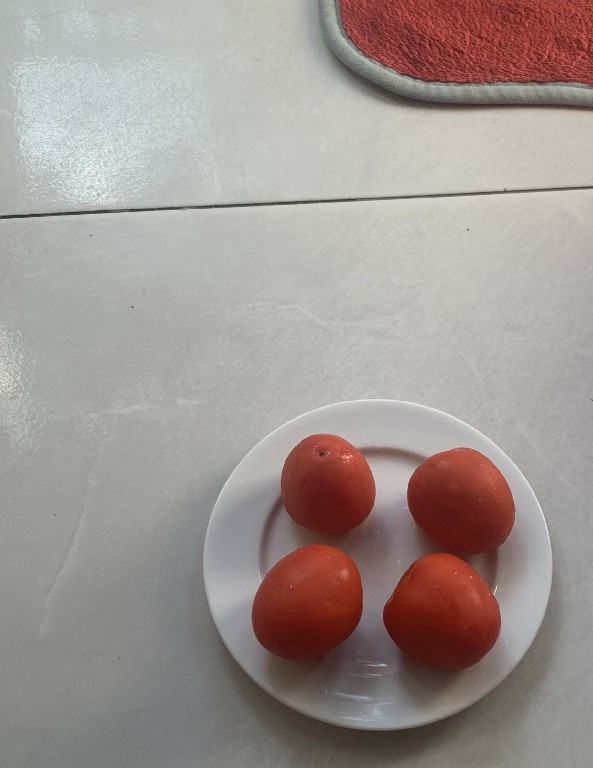OK: (252, 542, 374, 667), (382, 551, 503, 673), (407, 444, 526, 561), (275, 427, 387, 537)
